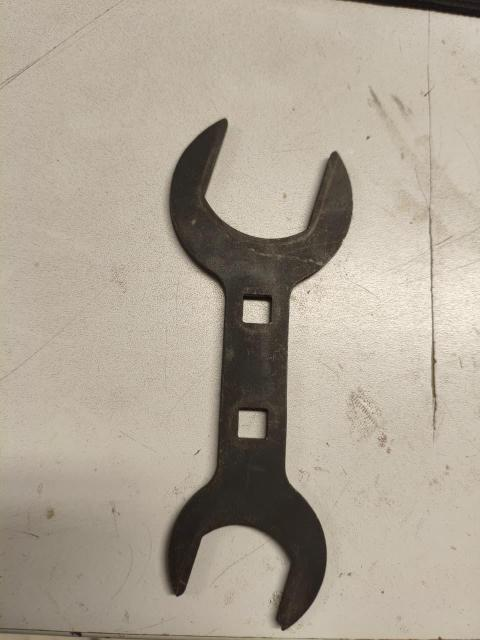Metal: (157, 120, 355, 627)
